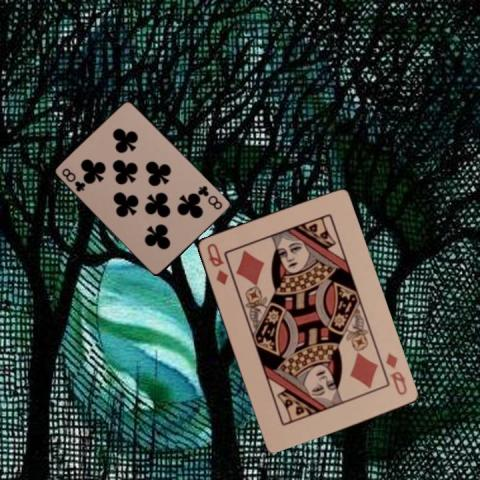8c: (195, 183, 224, 211), (60, 166, 88, 194)
Qd: (382, 349, 408, 397), (204, 239, 230, 286)
